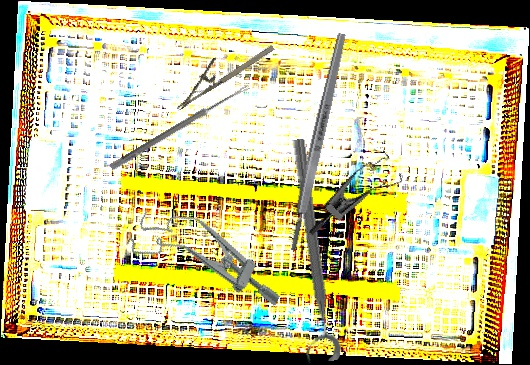Fixation Ring: (273, 137, 343, 365)
Needle Holder: (164, 29, 277, 111)
Scalpel Handle: (286, 32, 349, 252)
Speculum: (124, 195, 295, 318), (306, 139, 412, 261)
Surgical Spoon: (109, 82, 251, 172)
